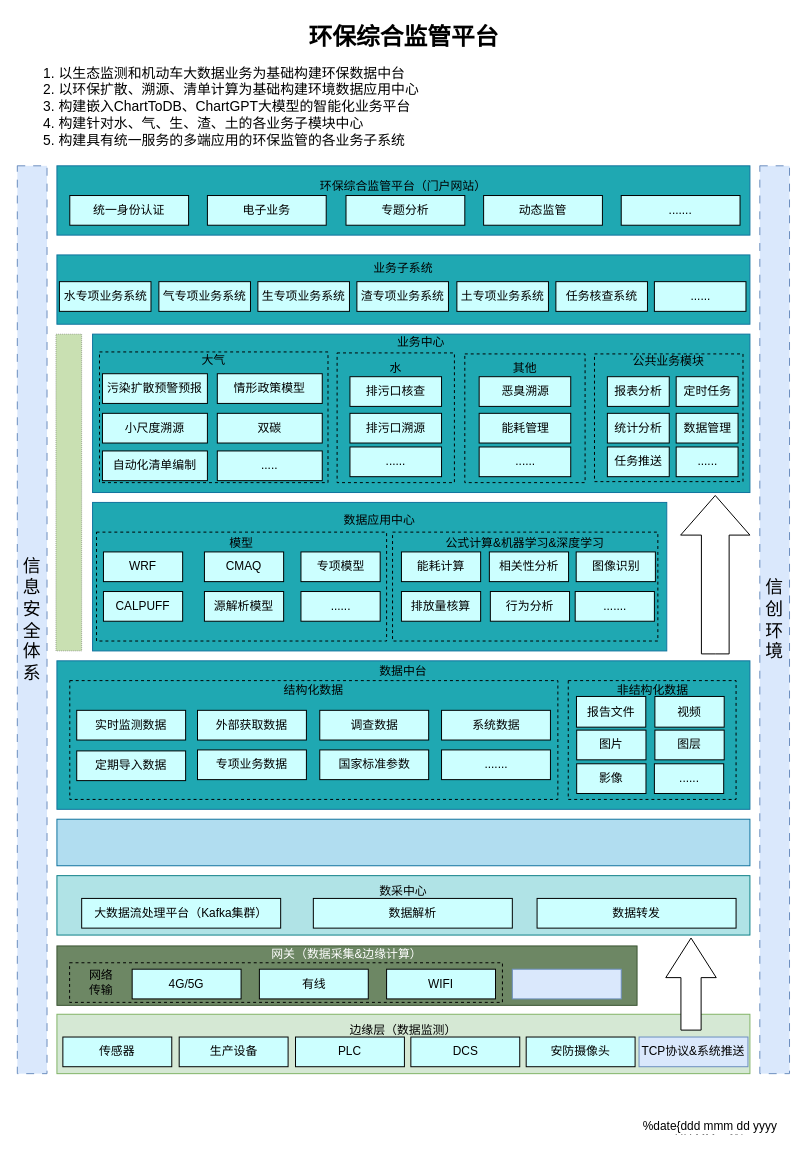
Image size: 807x1162. Some labels were removed from this diagram. Here are the shapes that lost their labels. From the top down, the centre of each, then its label:
At (x=68, y=492): "大模型".
At (x=403, y=842): "ETL&流计算".
At (x=566, y=983): "边缘计算".
